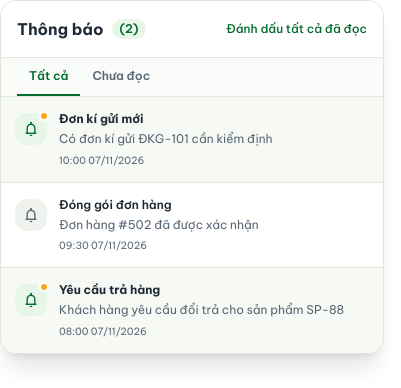
Scenario: Notification UI Components › NotificationDropdown › switches between "Tất cả" and "Chưa đọc" tabs
The image size is (401, 388).
Expected: the heading "Đơn kí gửi mới" is shown, [59,111,144,127]
Expected: the heading "Đóng gói đơn hàng" is shown, [59,196,172,212]
// Click "Chưa đọc" tab
Click the tab "Chưa đọc".
click(121, 77)  # box [80,58,162,96]
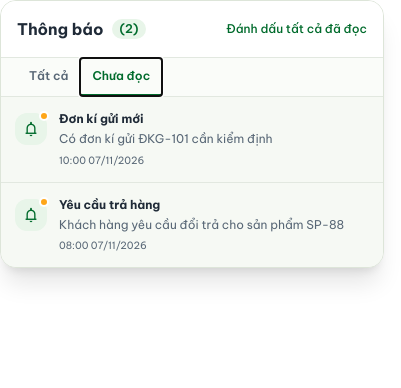
Expected: the heading "Đơn kí gửi mới" is shown, [59,111,144,127]
Expected: the button "Đóng gói đơn hàng" is gone
// Switch back to "Tất cả"
Click the tab "Tất cả".
click(49, 77)  # box [17,58,80,96]
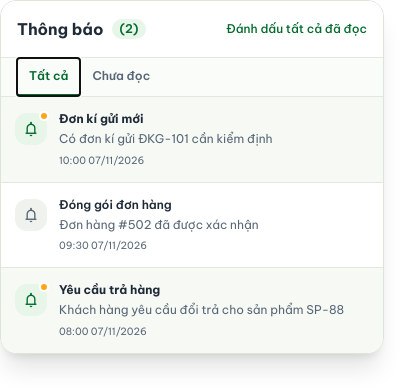
Expected: the heading "Đóng gói đơn hàng" is shown, [59,196,172,212]
